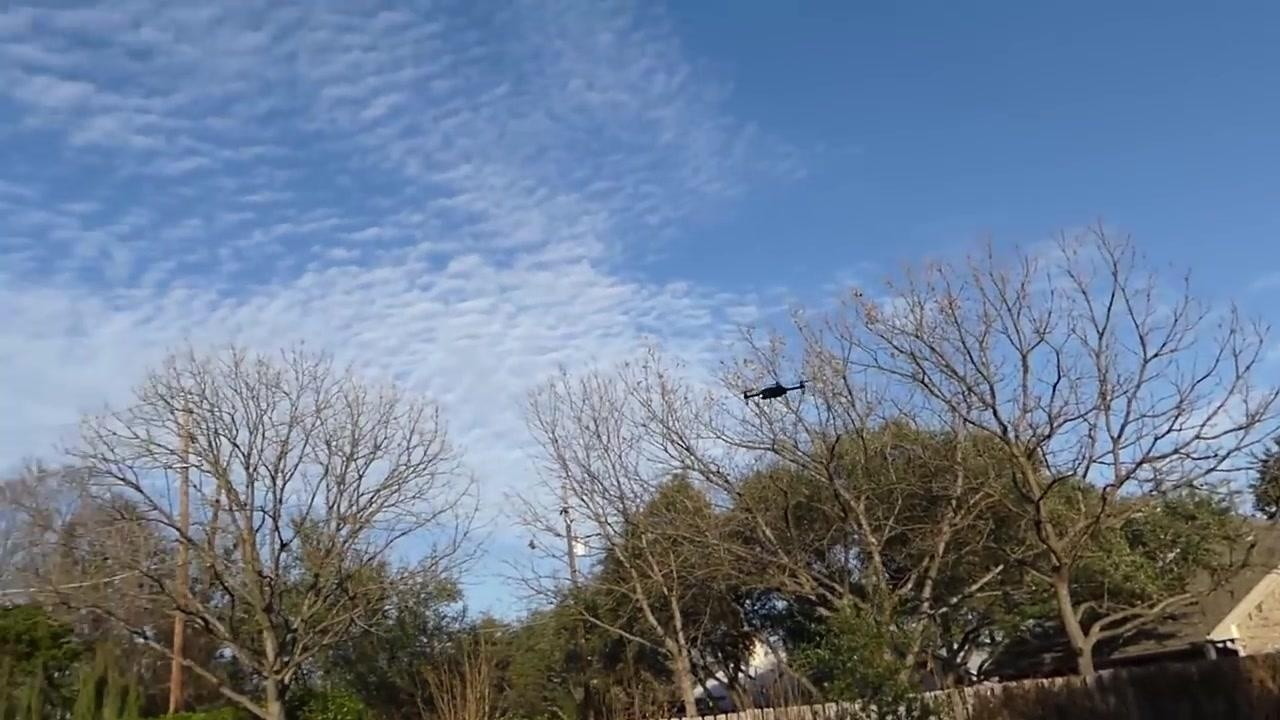UAV: (742, 380, 814, 402)
